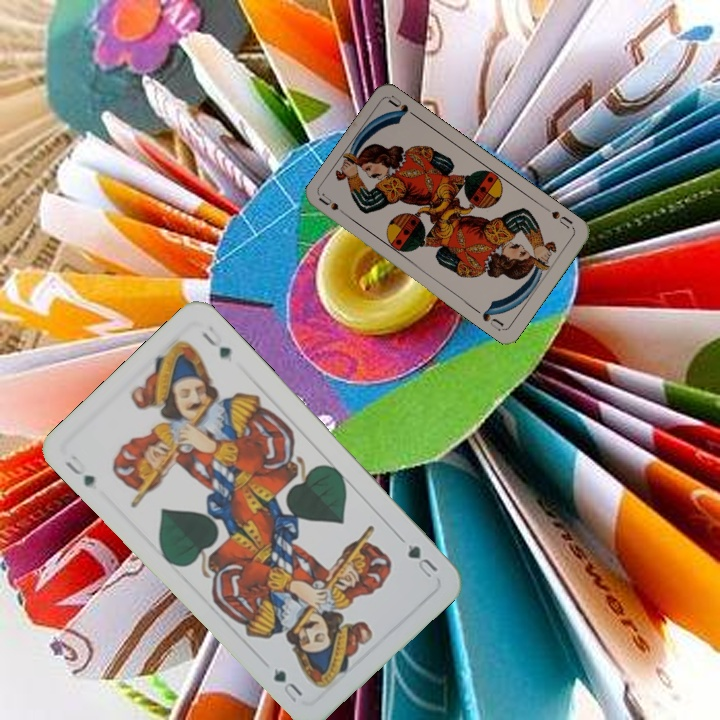GU: (403, 540, 441, 581), (61, 451, 98, 490)
SU: (315, 190, 353, 221), (541, 203, 577, 232)
